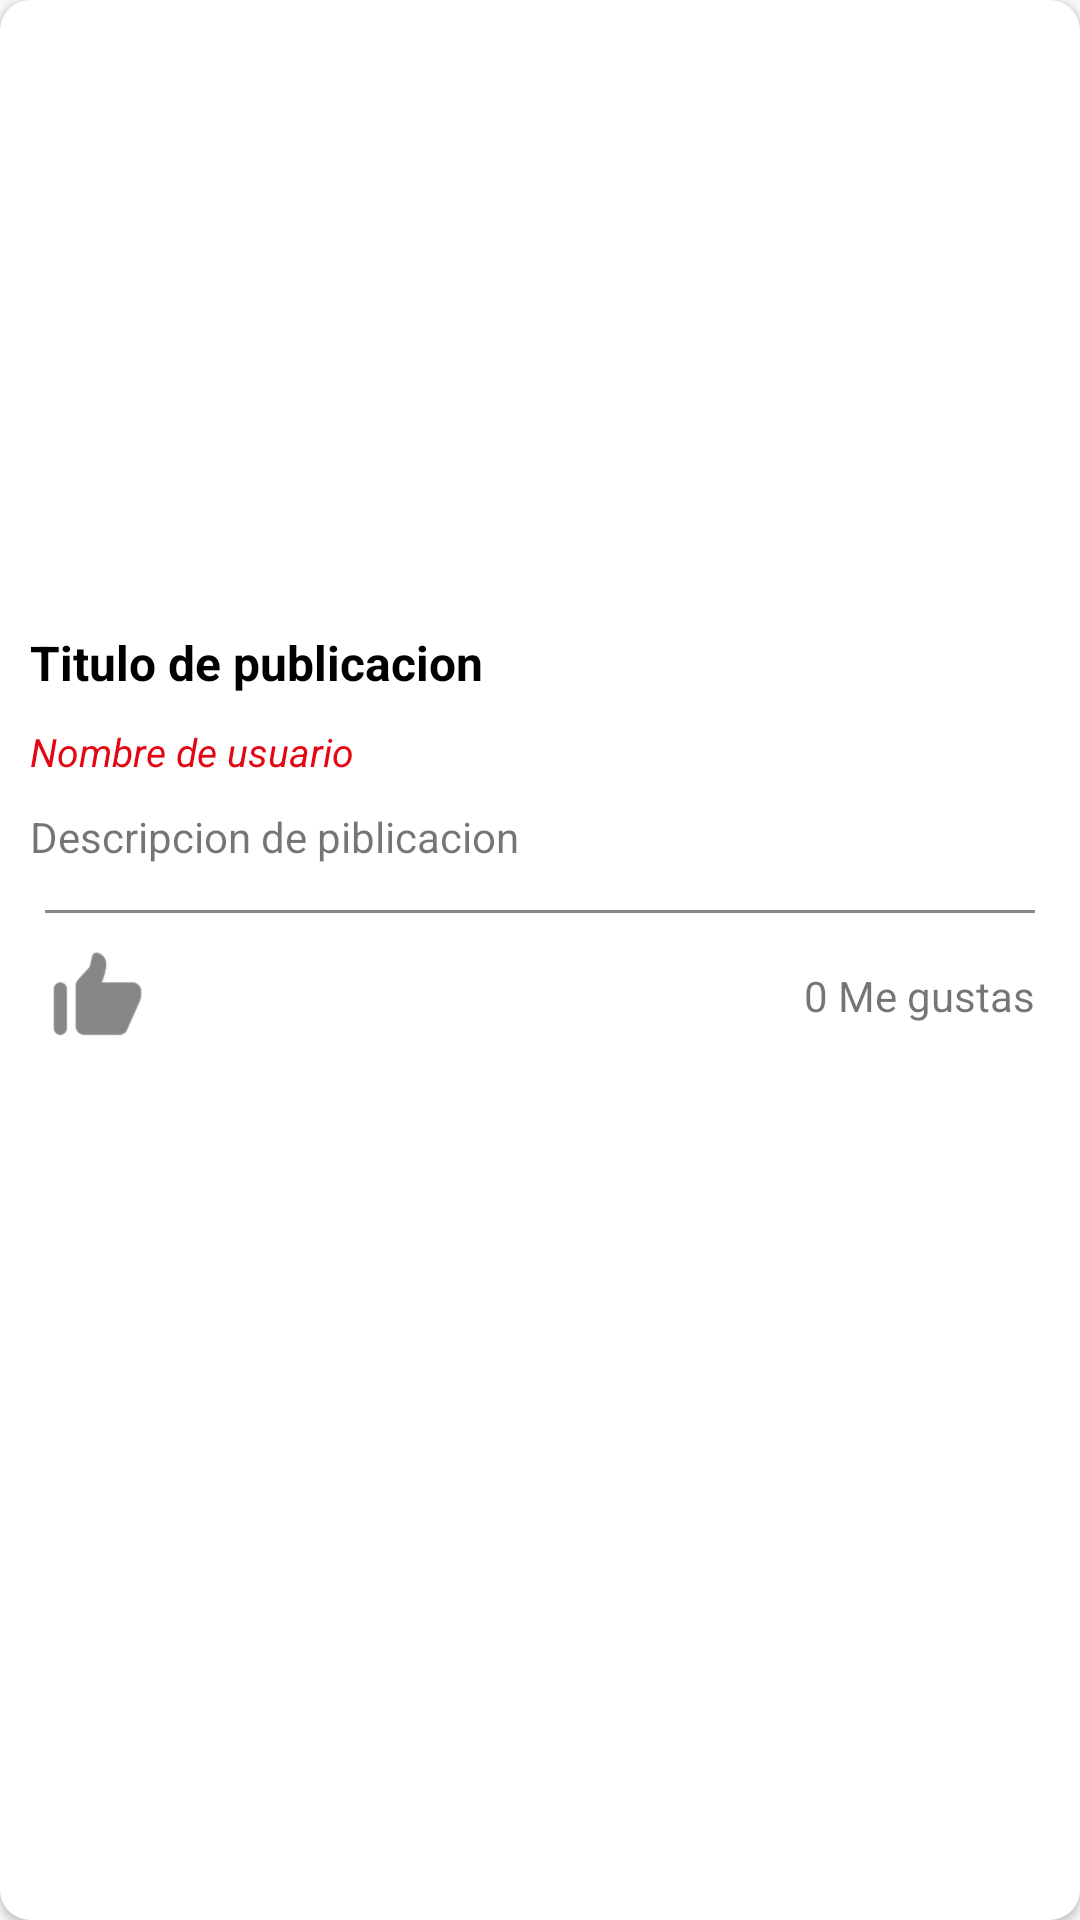

Icons on this 1080x1920 Android screen, each with its box as (x1, y1, x2, y2):
like fyagray: (53, 952, 142, 1035)
